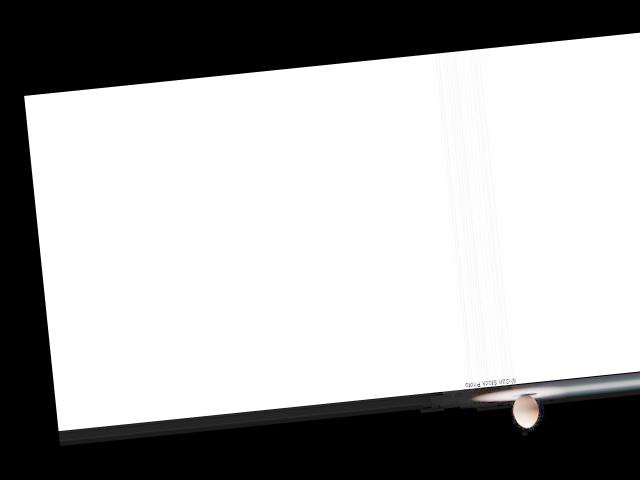egg: (511, 393, 540, 428)
